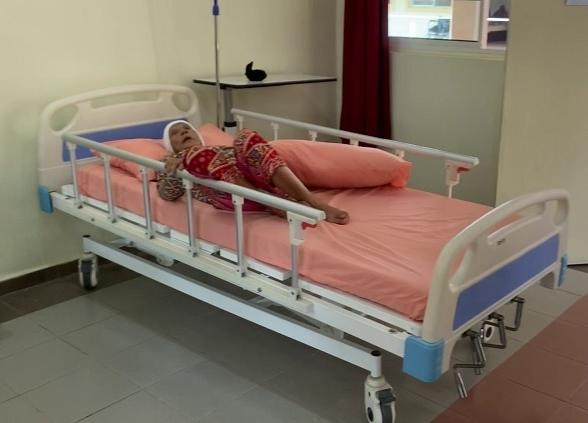bed: (23, 78, 578, 423)
table: (190, 69, 330, 111)
